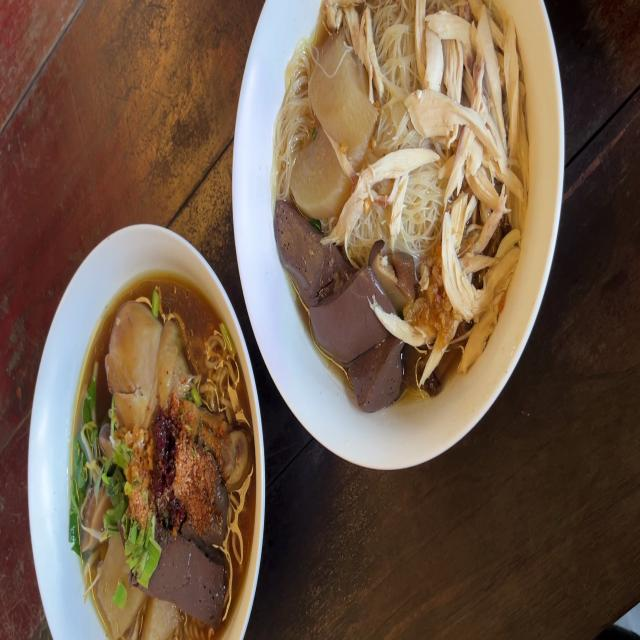boiled_chicken_blood_jelly: (275, 202, 343, 308), (158, 529, 224, 617), (318, 261, 377, 359), (361, 339, 396, 411)
chicken_drumstick: (104, 300, 252, 496)
chicken_shredded: (418, 0, 529, 322), (339, 157, 424, 239), (476, 232, 522, 350), (406, 94, 500, 151), (441, 211, 486, 325), (472, 7, 509, 145), (440, 219, 484, 321), (372, 302, 433, 348), (425, 305, 463, 377), (352, 0, 382, 91), (502, 22, 518, 160), (466, 158, 503, 210), (429, 10, 479, 44), (391, 174, 406, 244)
daikon_radish: (312, 33, 373, 159), (96, 536, 150, 631), (294, 128, 344, 214)
noodle: (268, 0, 531, 379), (70, 282, 255, 620)
